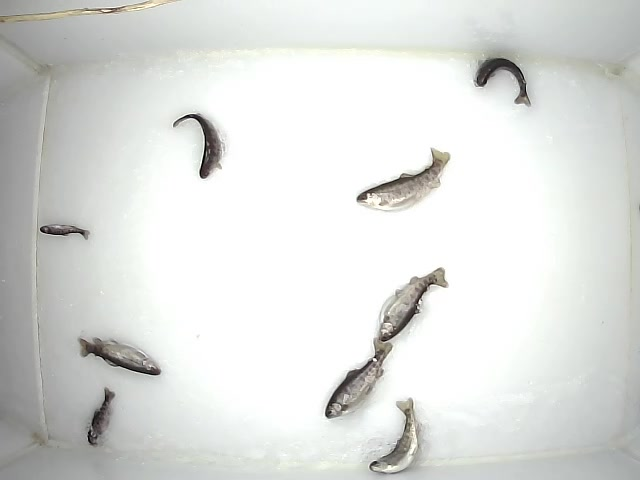fish: (354, 146, 453, 212), (322, 339, 395, 420), (374, 266, 450, 343), (367, 394, 422, 474), (171, 112, 225, 179), (75, 336, 162, 375), (471, 57, 533, 108), (86, 386, 117, 447), (38, 224, 91, 239)
